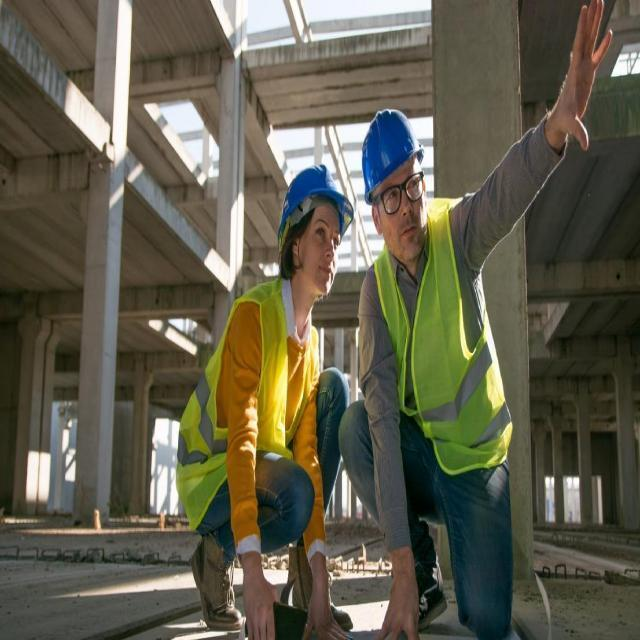No_Goggles: (309, 218, 340, 253)
